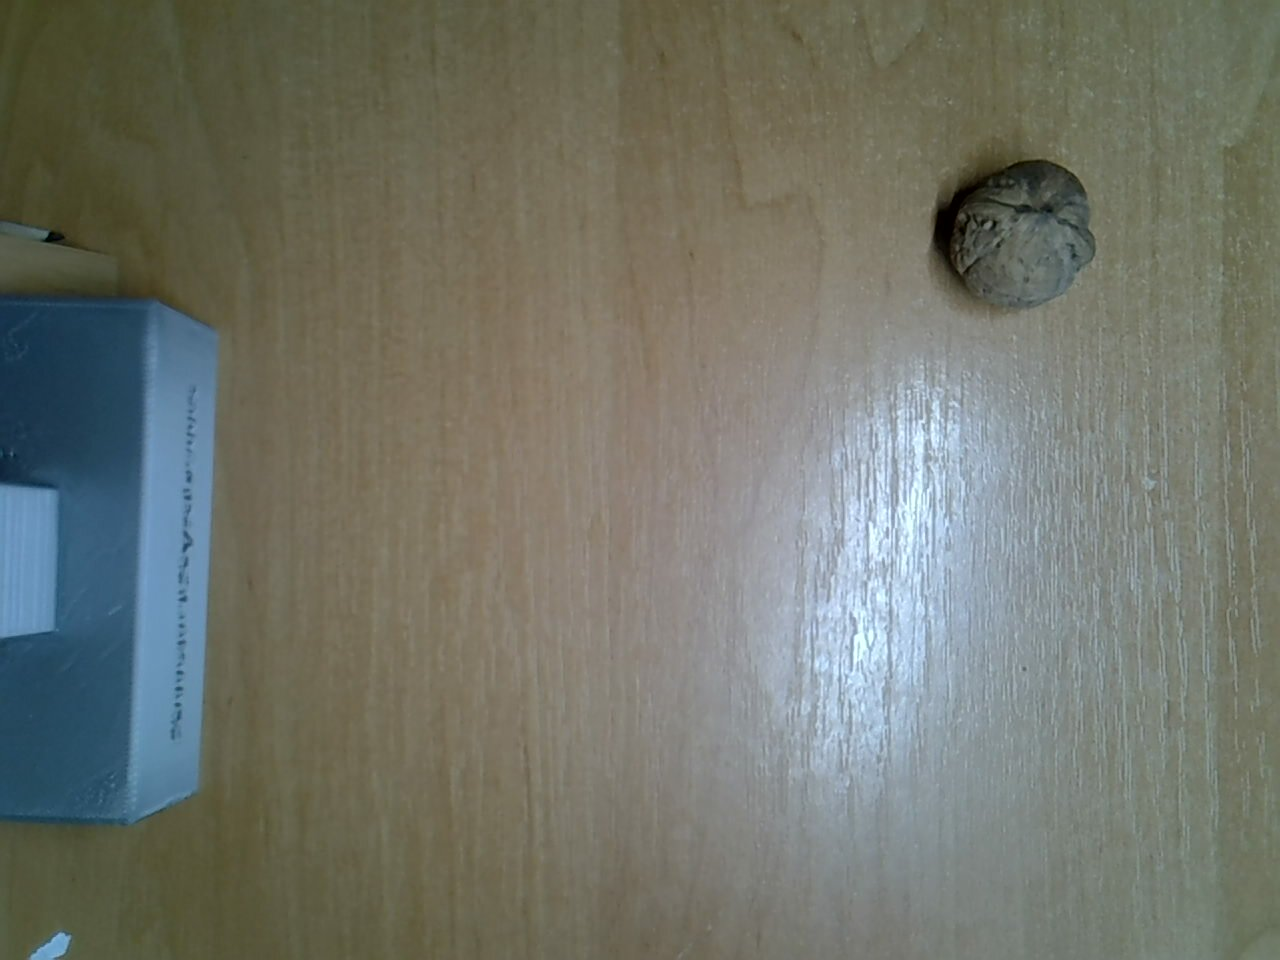nut: (945, 157, 1101, 315)
